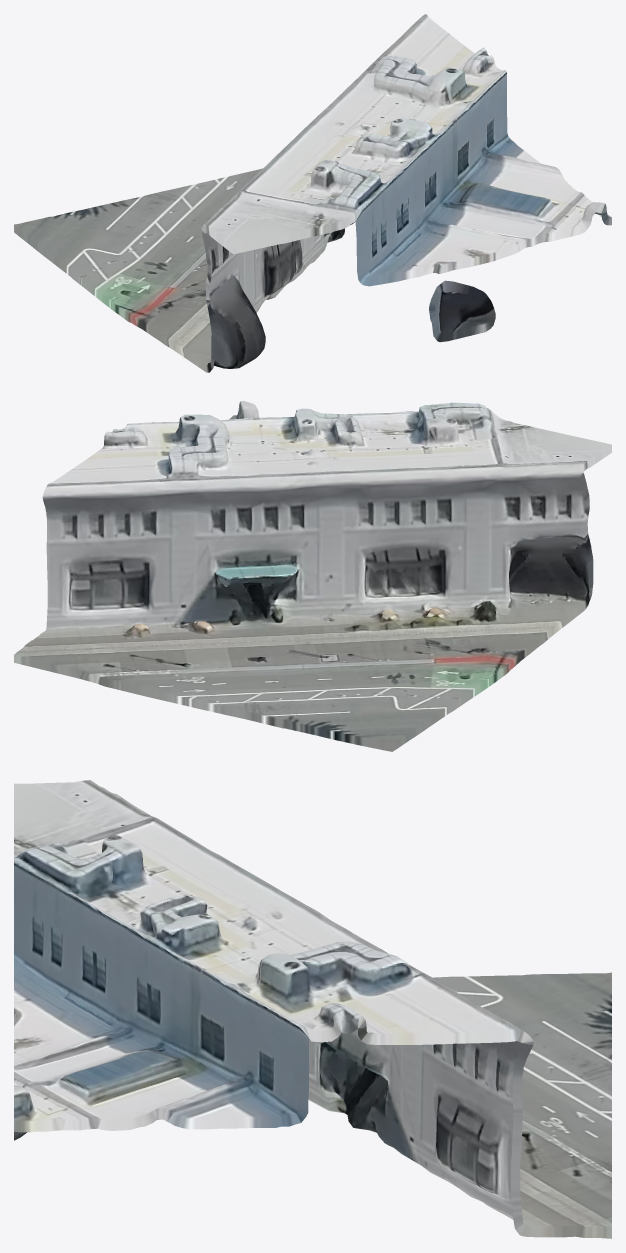
Rendered from z20-167785-405214-h0-yup-uvflip-v3-world.glb.
3 views of the same model, one above another, from view 1: azimuth 30°, elevation 25°; view 2: azimuth 150°, elevation 25°; view 3: azimuth 270°, elevation 25° (orthographic). The views are drawn at different scales.
Bounding box in the file's own units: 30.16 × 13.36 × 30.32.
Materials: 1 (1 with a texture image).
